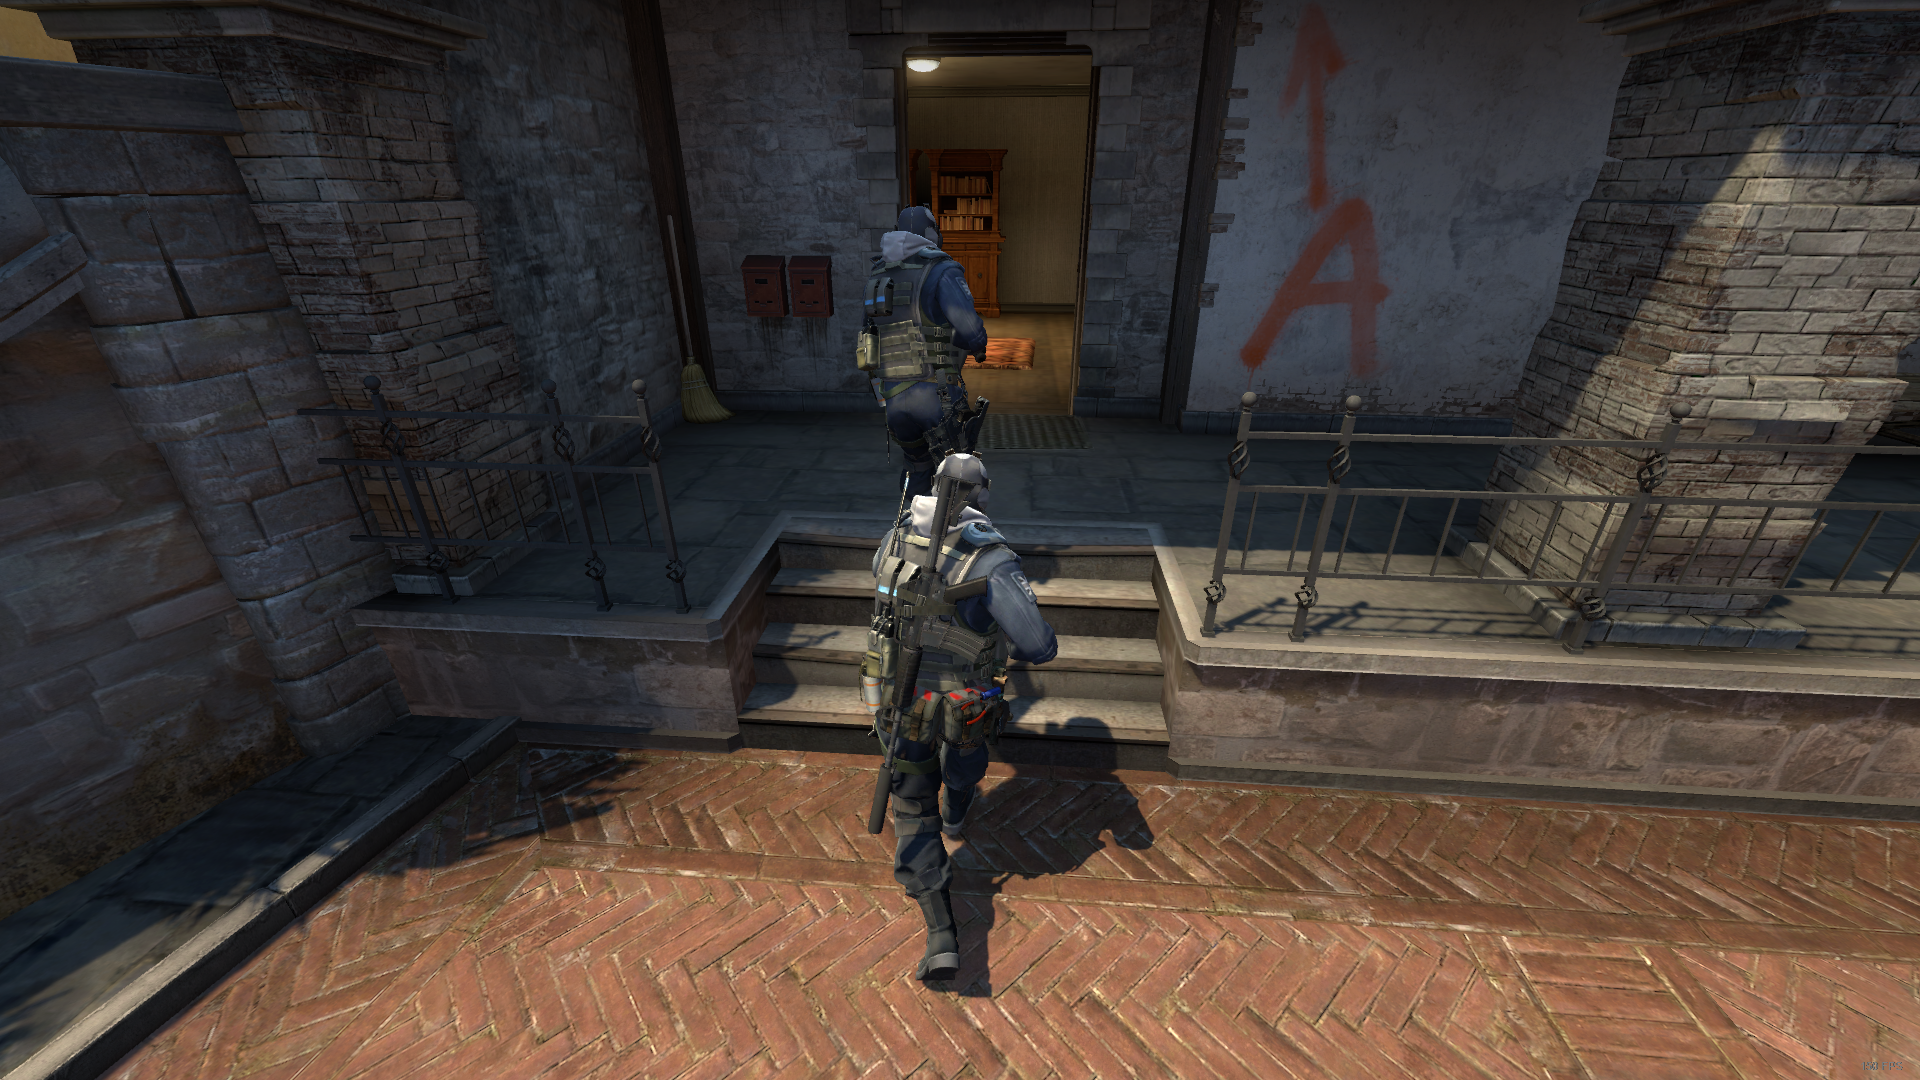ct: (873, 455, 1062, 982), (858, 204, 989, 496)
